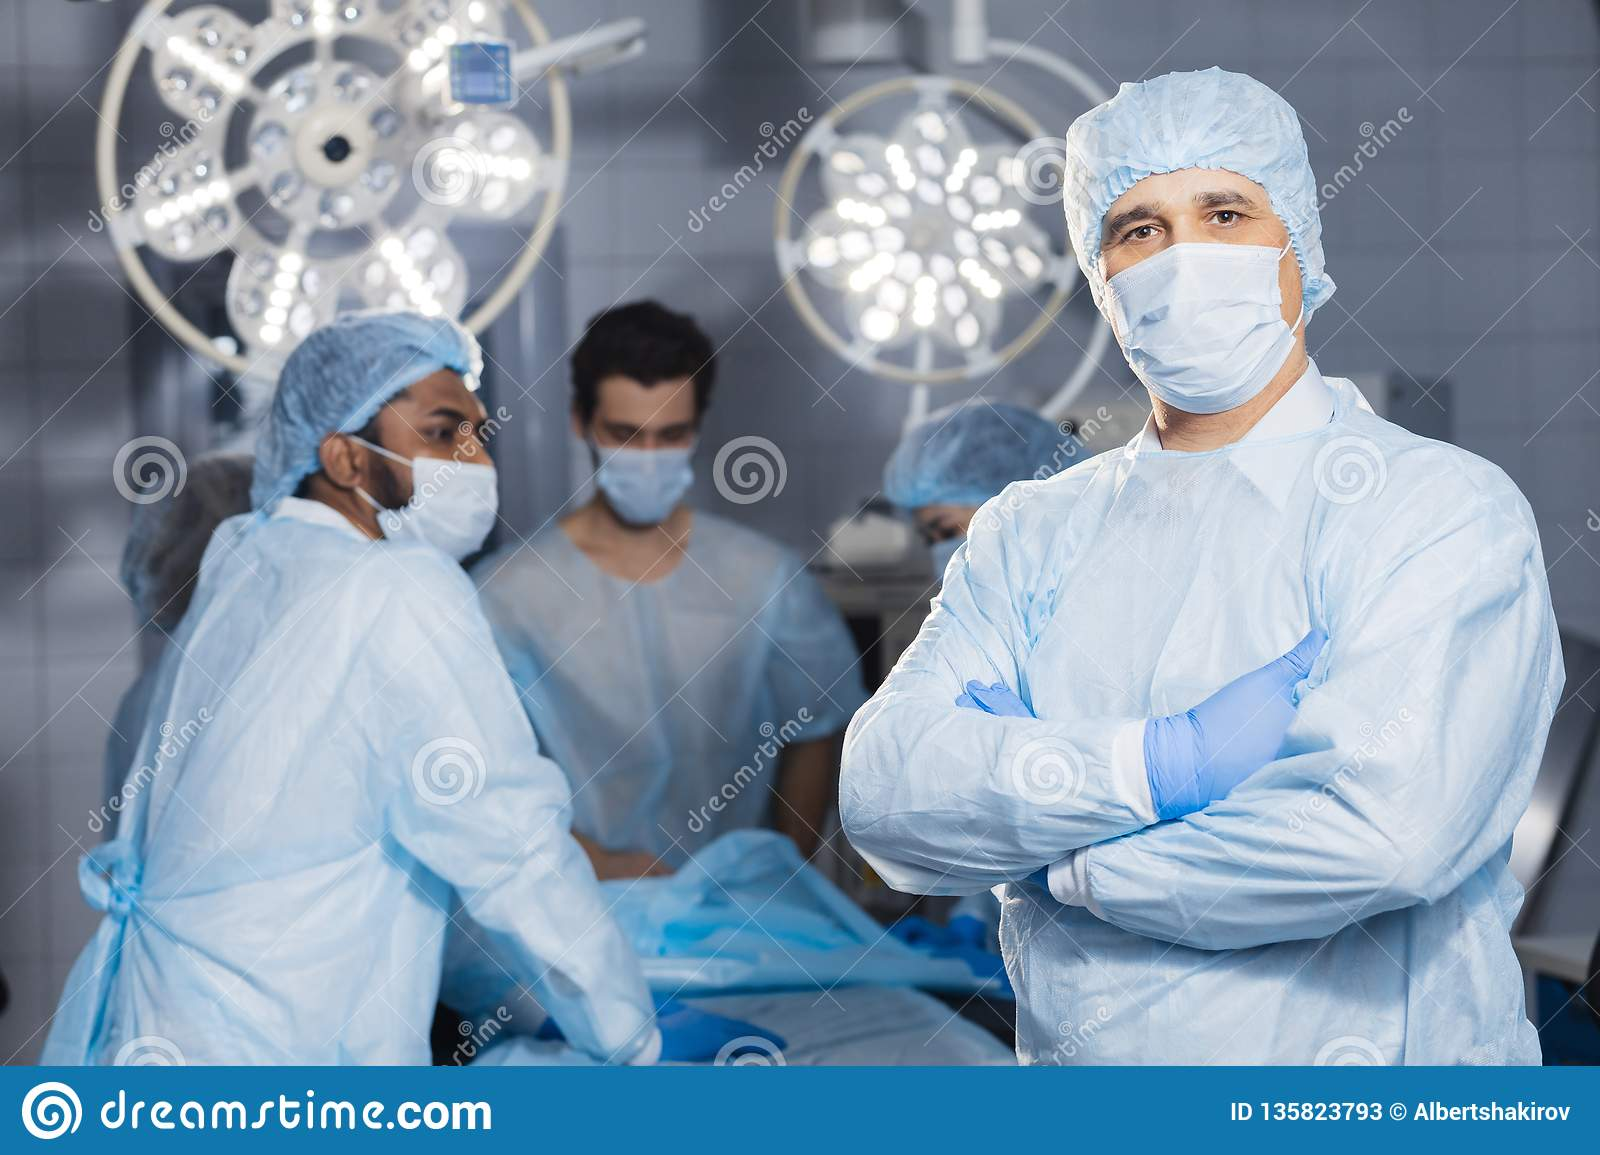mask: (1103, 256, 1318, 411), (405, 456, 512, 579), (585, 451, 691, 535)
